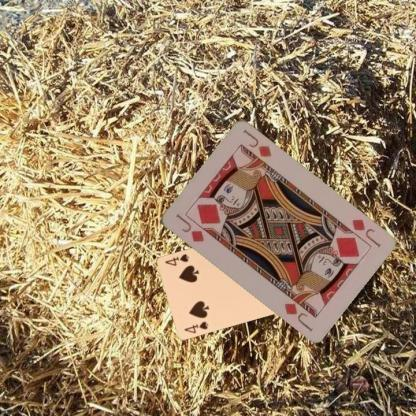4s: (182, 318, 210, 335)
Jd: (172, 210, 205, 244), (349, 216, 382, 249)
